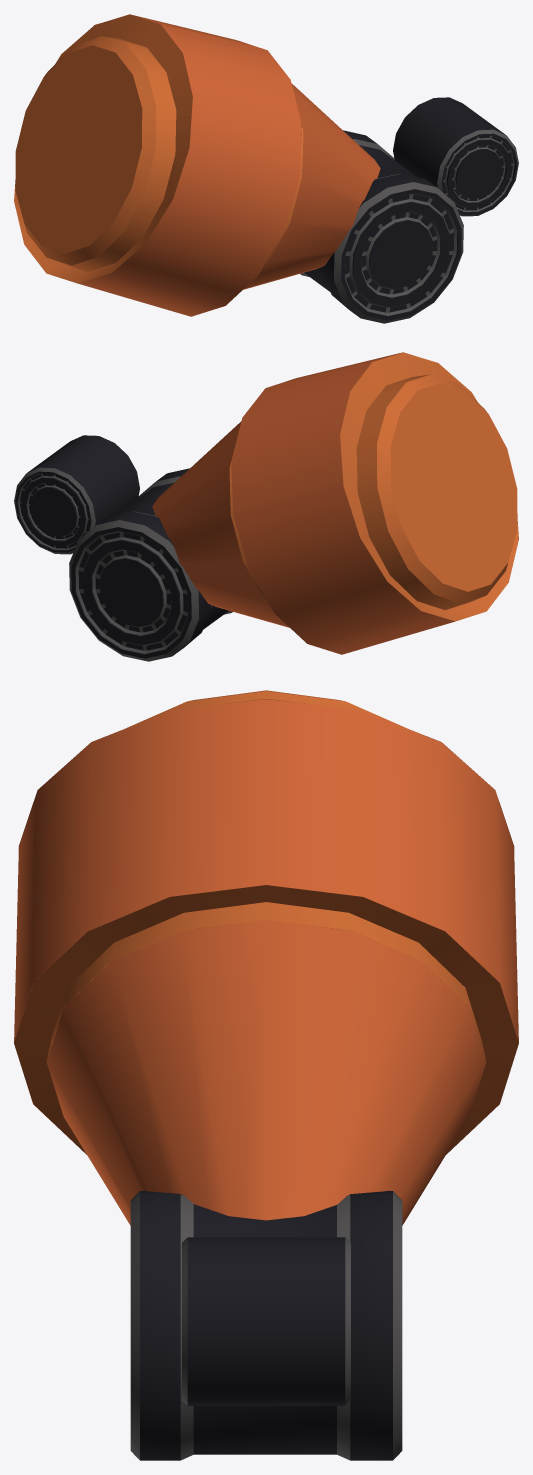
Rendered from r_shoulder.glb.
3 renders of one model, top to bottom at view 1: azimuth 30°, elevation 25°; view 2: azimuth 150°, elevation 25°; view 3: azimuth 270°, elevation 25°, orthographic. The views are drawn at different scales.
Visible parts, largest first — view 1: r_shoulder; view 2: r_shoulder; view 3: r_shoulder.
Part boxes in pixels (<box>): r_shoulder: <box>14,14,518,323</box>; r_shoulder: <box>14,352,518,661</box>; r_shoulder: <box>14,690,518,1460</box>.
Bounding box in the file's own units: 1.01 × 0.6795 × 0.544.
